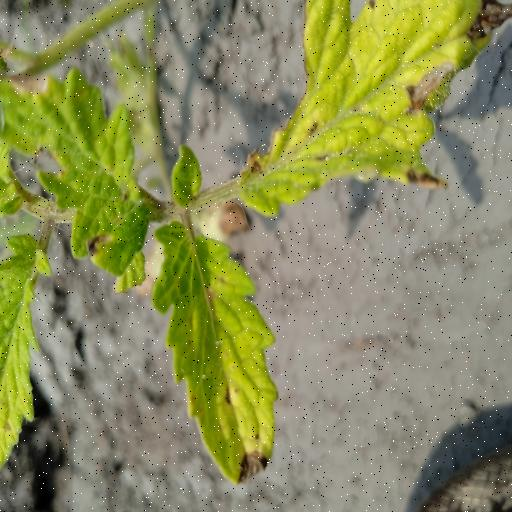Tomato_Brown_Spots: (224, 0, 511, 215), (150, 216, 284, 488), (0, 66, 161, 275)
